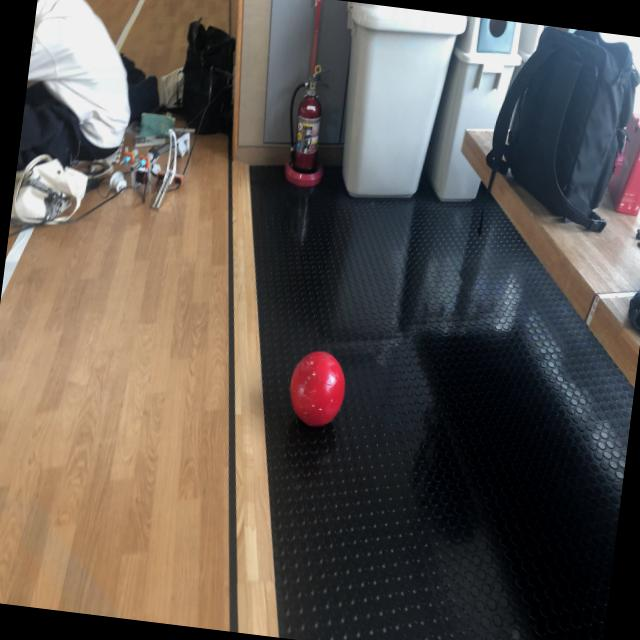red_ball: (285, 347, 347, 428)
